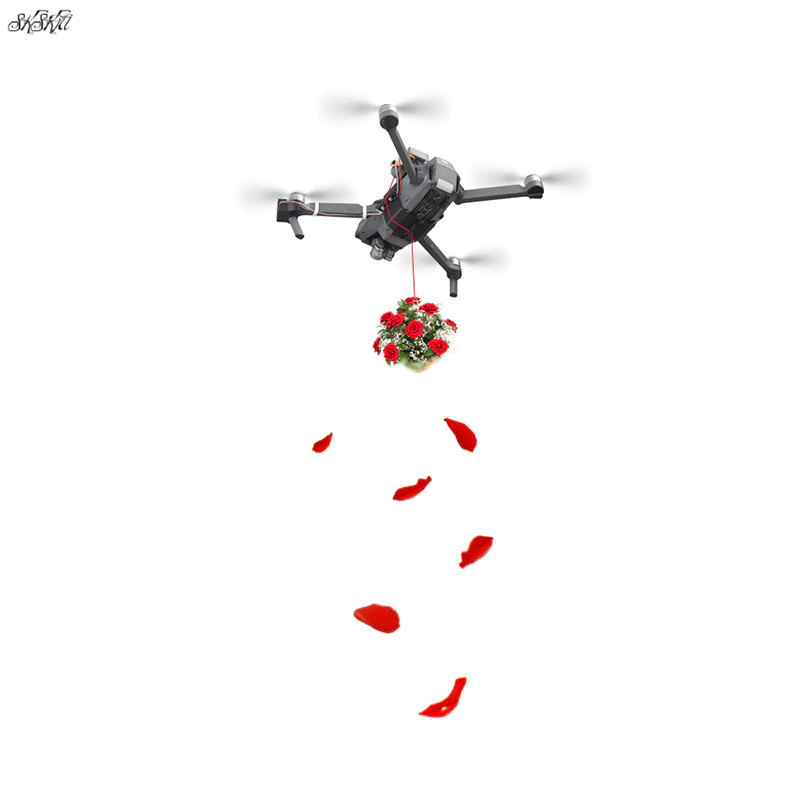drone: (230, 81, 605, 307)
